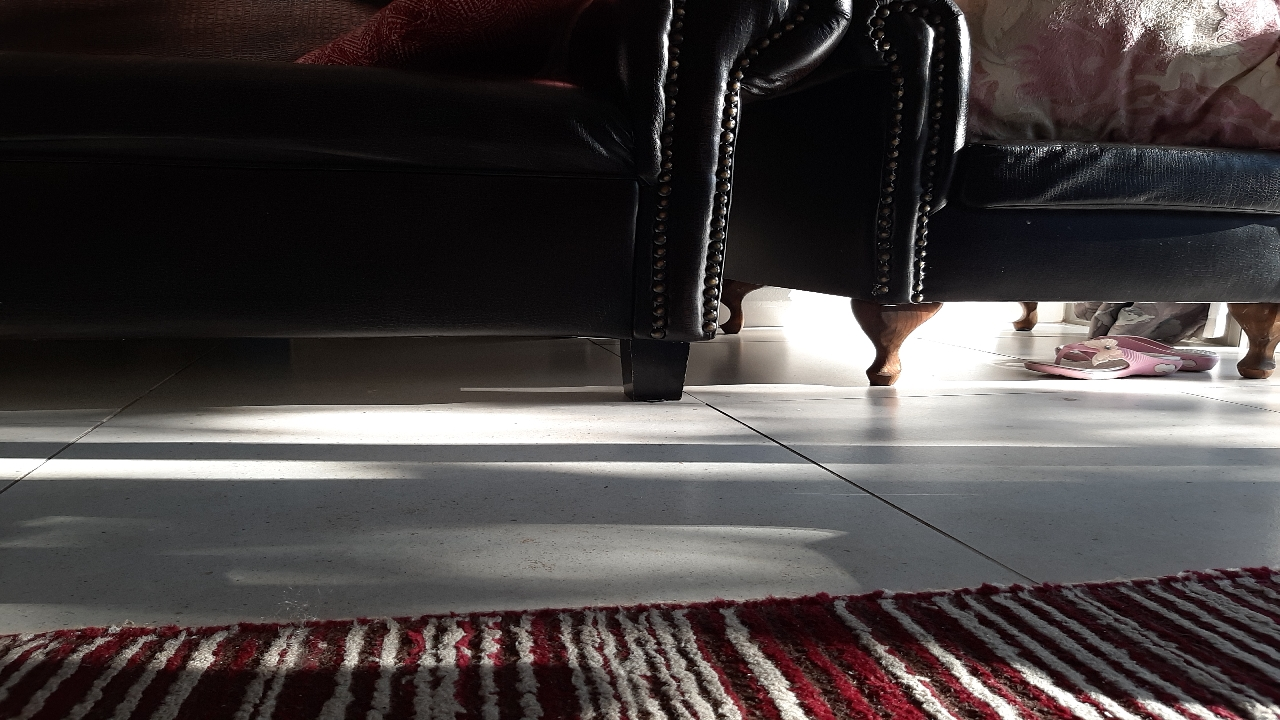sofa: (421, 270, 957, 457)
